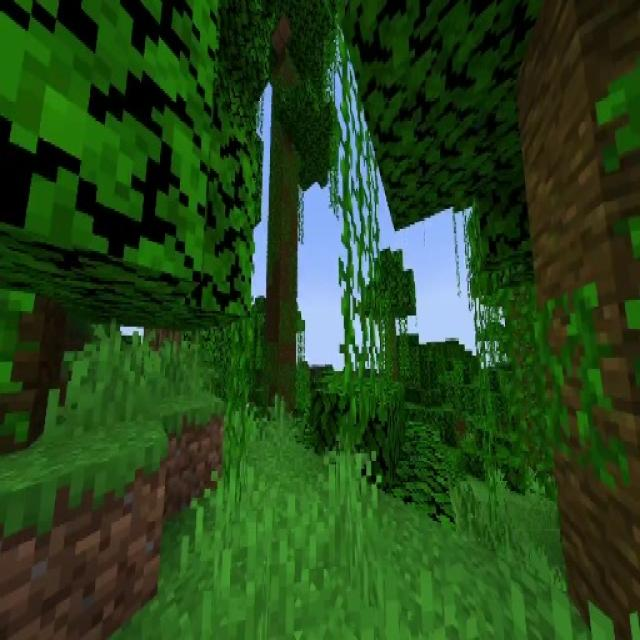jungle: (364, 246, 416, 378)
jungle_log: (524, 2, 640, 618), (266, 116, 299, 416)
